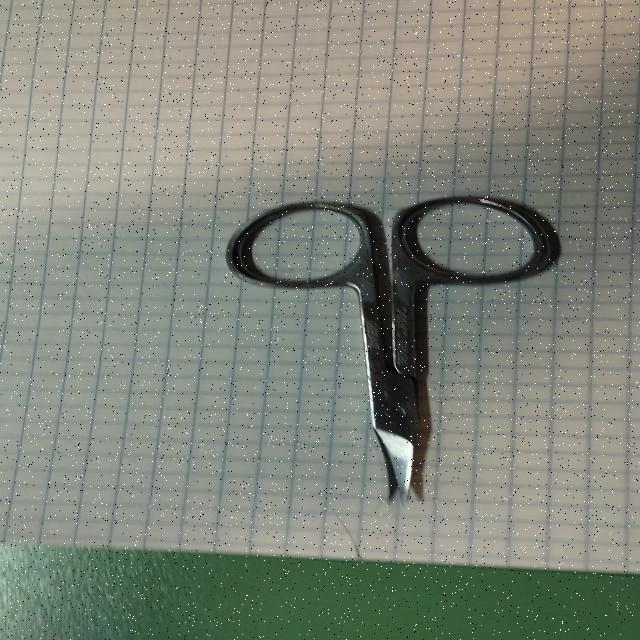scissors: (214, 192, 574, 506)
